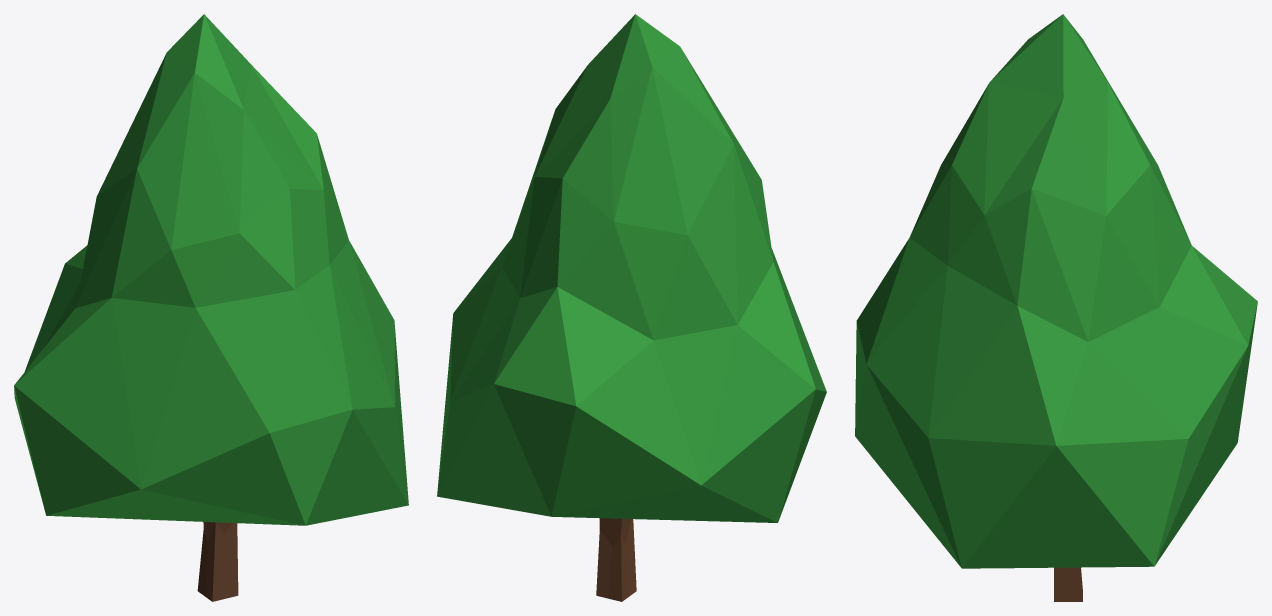
File: Tree_14_Green.fbx
3 views of the same model, side by side, from view 1: azimuth 30°, elevation 25°; view 2: azimuth 150°, elevation 25°; view 3: azimuth 270°, elevation 25° (orthographic).
Visible parts, largest first — view 1: Tree_14_Green_Part_1, Tree_14_Green_Part_2; view 2: Tree_14_Green_Part_1, Tree_14_Green_Part_2; view 3: Tree_14_Green_Part_1, Tree_14_Green_Part_2.
Part boxes in pixels (box(x1,y1,x2,y2)): Tree_14_Green_Part_1: box(14, 14, 408, 525); Tree_14_Green_Part_2: box(197, 522, 238, 601); Tree_14_Green_Part_1: box(437, 14, 826, 522); Tree_14_Green_Part_2: box(596, 518, 636, 601); Tree_14_Green_Part_1: box(855, 14, 1257, 568); Tree_14_Green_Part_2: box(1054, 567, 1082, 601).
Size of the model in its own units: 527 by 791 by 503.
